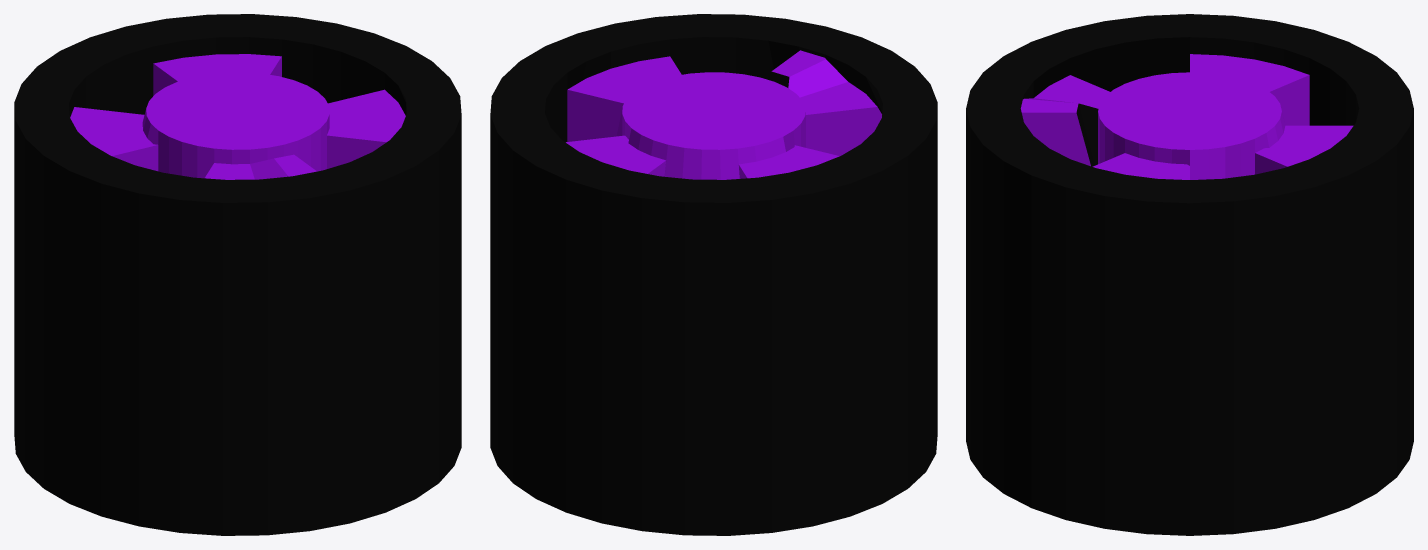
The model's file is pneutras1.fbx.
3 views of the same model, side by side, from view 1: azimuth 30°, elevation 25°; view 2: azimuth 150°, elevation 25°; view 3: azimuth 270°, elevation 25° (orthographic).
Parts seen in each view (by area): view 1: pneutras; view 2: pneutras; view 3: pneutras.
Boxes of the visible parts, x1,y1,x2,y2 form: pneutras: (14,14,461,535); pneutras: (490,14,937,535); pneutras: (966,14,1413,535).
Size of the model in its own units: 126 by 104 by 126.
